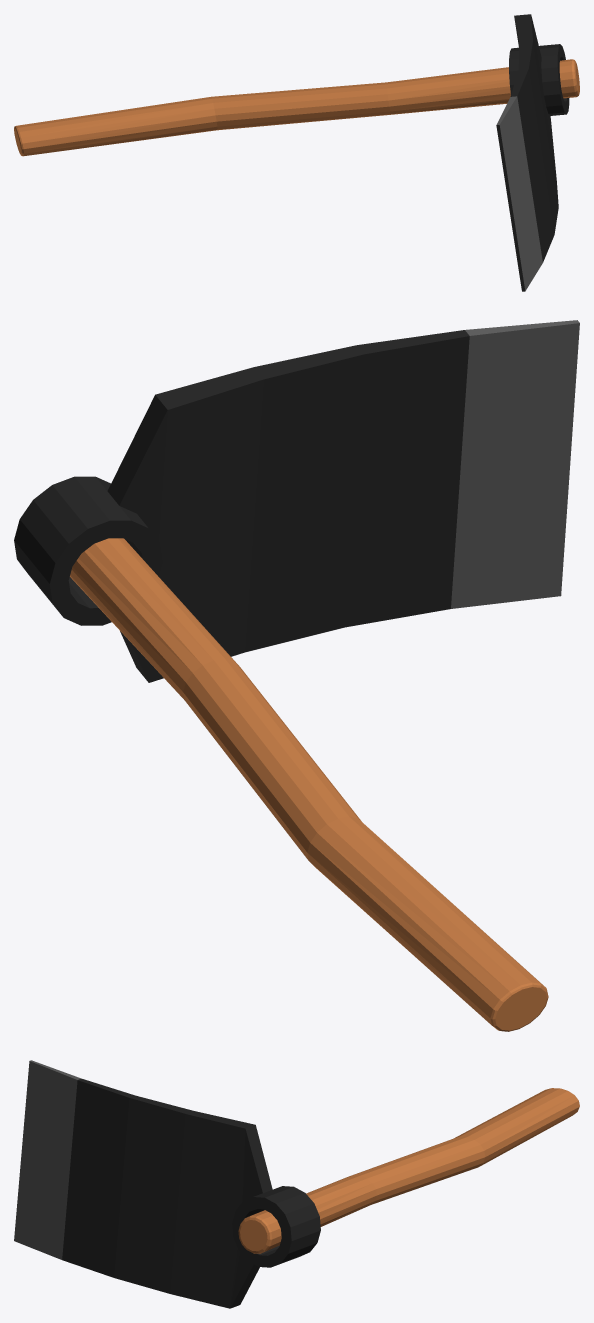
The model's file is cangkul.glb.
3 renders of one model, top to bottom at view 1: azimuth 30°, elevation 25°; view 2: azimuth 150°, elevation 25°; view 3: azimuth 270°, elevation 25°, orthographic. The views are drawn at different scales.
Visible parts, largest first — view 1: cangkul, besi.001; view 2: besi.001, cangkul; view 3: besi.001, cangkul.
Part boxes in pixels (x1,y1,x2,y2): cangkul: (14, 59, 579, 156); besi.001: (496, 14, 569, 291); besi.001: (14, 320, 579, 682); cangkul: (70, 538, 548, 1031); besi.001: (14, 1060, 320, 1308); cangkul: (238, 1088, 579, 1253).
Size of the model in its own units: 0.4817 by 0.1831 by 0.538.
